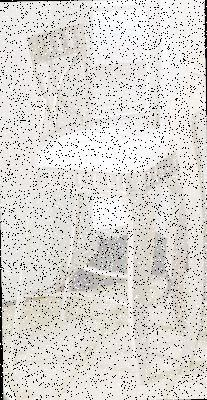Silla: (4, 29, 195, 388)
